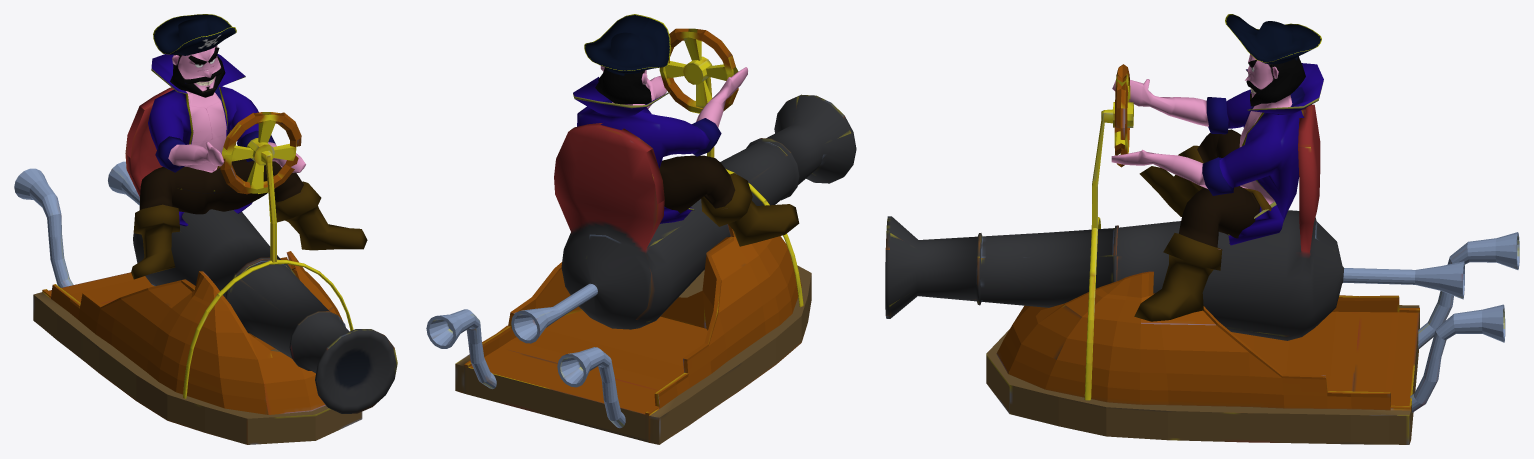
The model's file is pirataGiroDER_000562.obj.
3 renders of one model, left to right at view 1: azimuth 30°, elevation 25°; view 2: azimuth 150°, elevation 25°; view 3: azimuth 270°, elevation 25°, orthographic. The views are drawn at different scales.
Parts seen in each view (by area): view 1: carro_pirata, Pirata_PirataH; view 2: carro_pirata, Pirata_PirataH; view 3: carro_pirata, Pirata_PirataH.
Part boxes in pixels (x1,y1,x2,y2): carro_pirata: (14,87,397,444); Pirata_PirataH: (131,14,367,279); carro_pirata: (426,28,856,444); Pirata_PirataH: (573,14,799,246); carro_pirata: (885,64,1519,444); Pirata_PirataH: (1111,14,1323,321).
Bounding box in the file's own units: 5.7 × 7.73 × 12.1.
2 materials, 2 textured.
